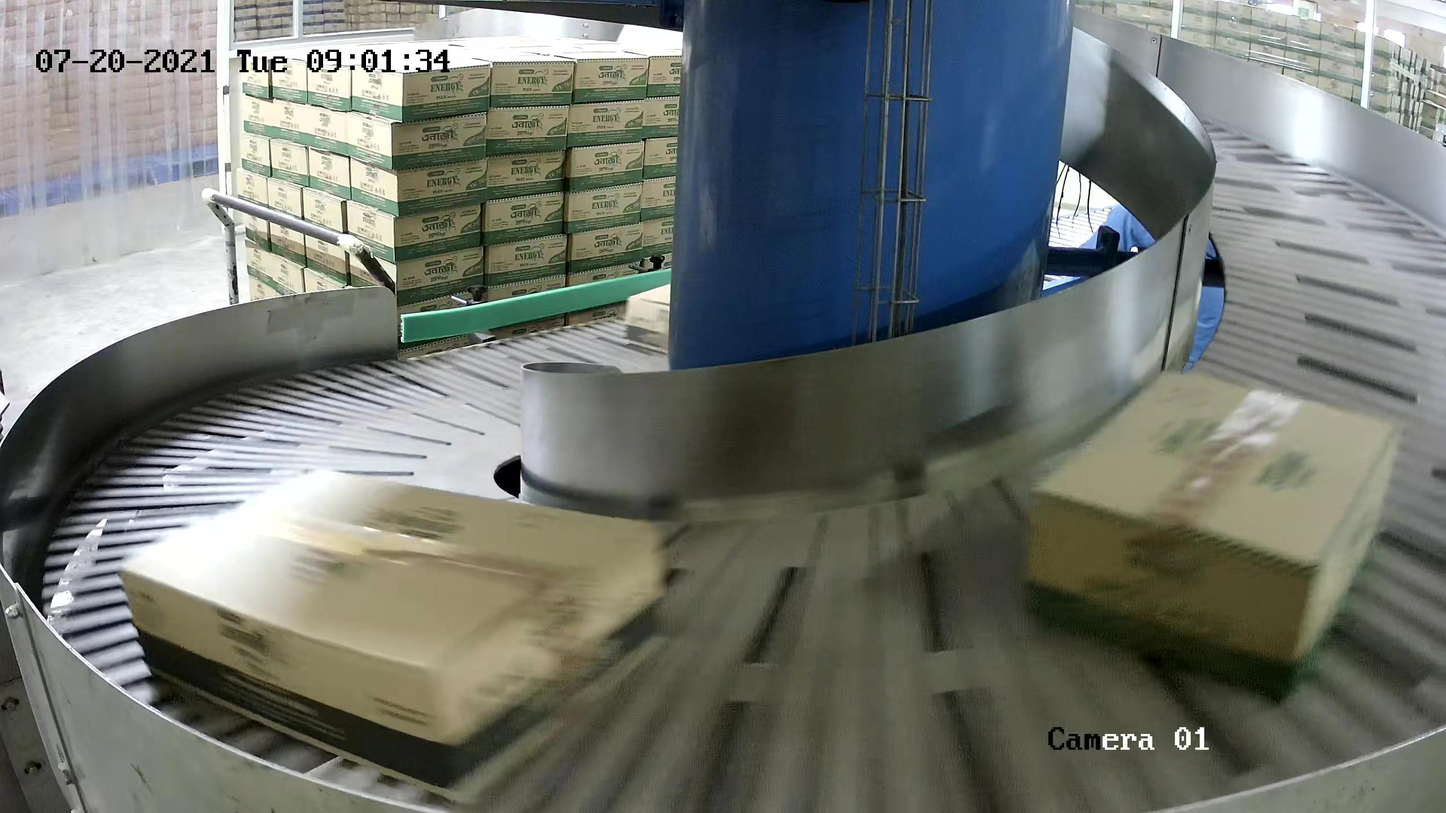Box: (117, 465, 667, 810), (1022, 368, 1397, 705), (624, 283, 671, 354)
